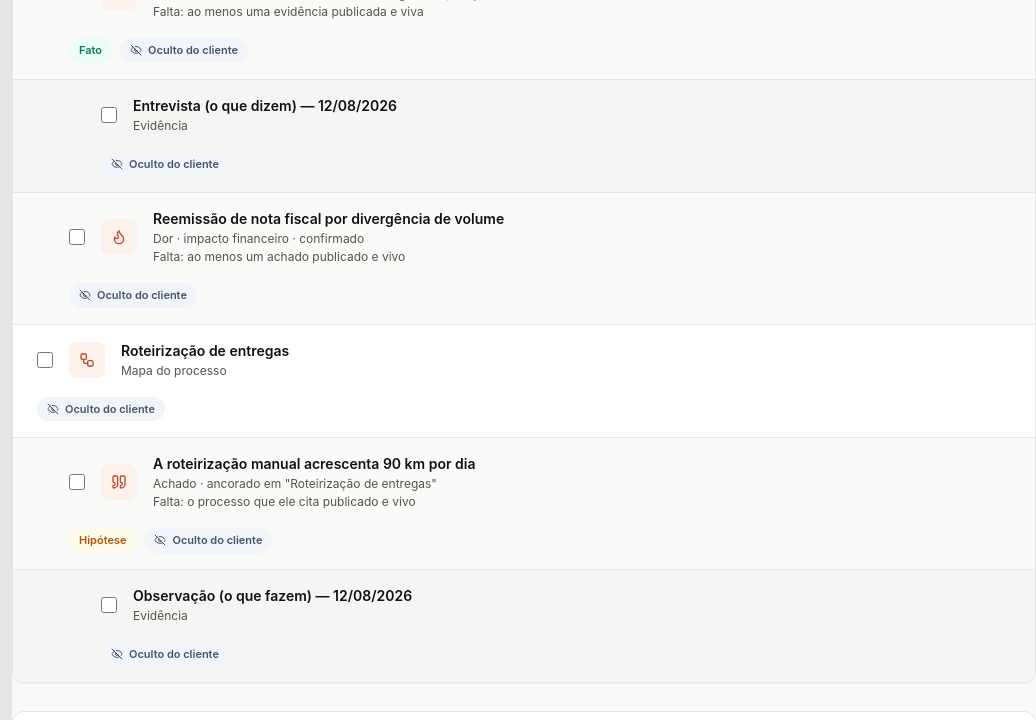
Test: a frase da recusa é a que veio do servidor — a tela não tem mapa de rótulo
The width and height of the screenshot is (1036, 720).
(page scrolled)
What coordinates should you click on to do the following:
click the checkbox named "Selecionar para publicar: Roteirização de entregas"
I would click on:
 (45, 360)
Its box is left=37, top=352, right=53, bottom=368.
(page scrolled)
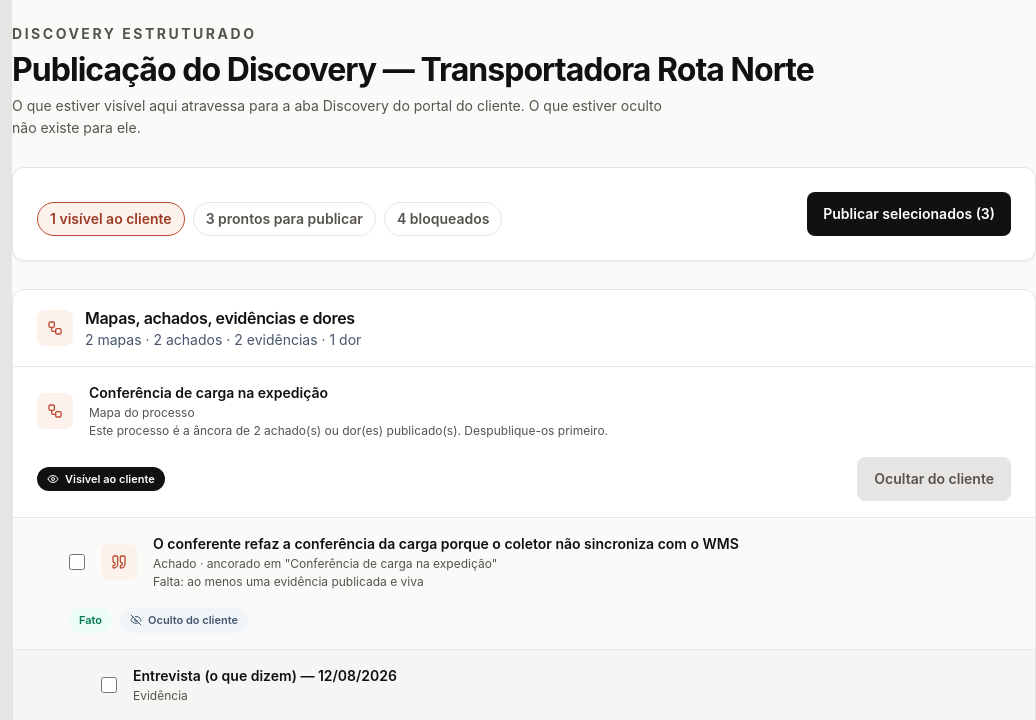
What coordinates should you click on to do the following:
click the button "Publicar selecionados (3)"
I would click on:
 (909, 214)
Its box is left=807, top=192, right=1011, bottom=236.
(page scrolled)
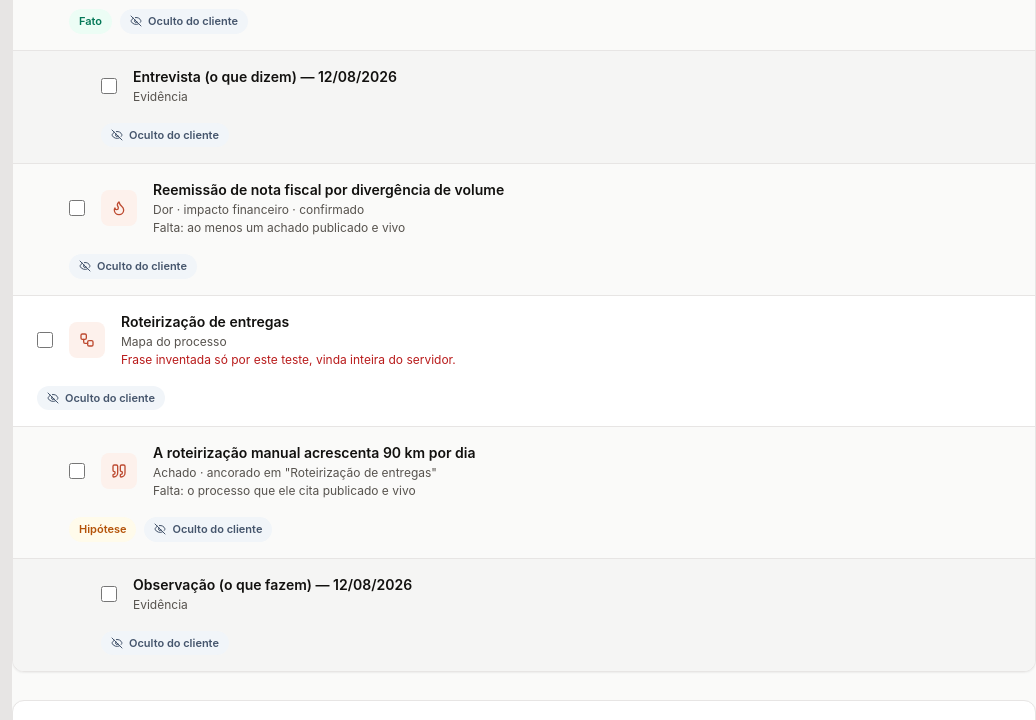
expect the text "Frase inventada só por este teste, vinda inteira do servidor." is shown: met, box left=121, top=352, right=456, bottom=366
